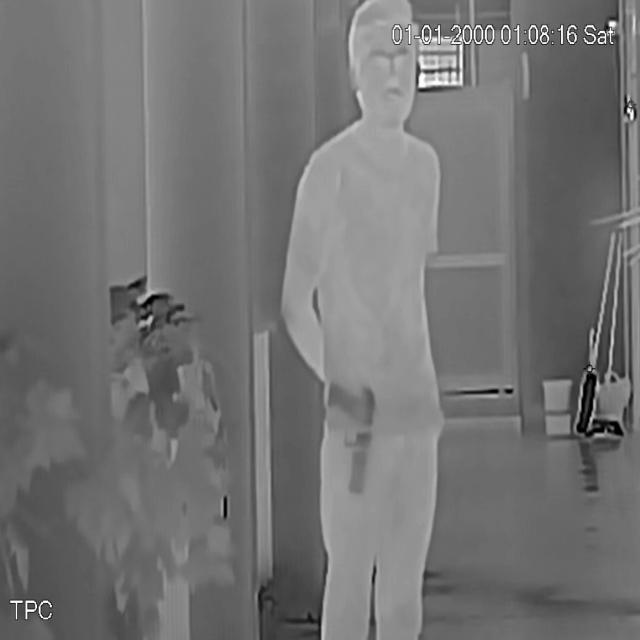Weapon: (319, 372, 388, 512)
